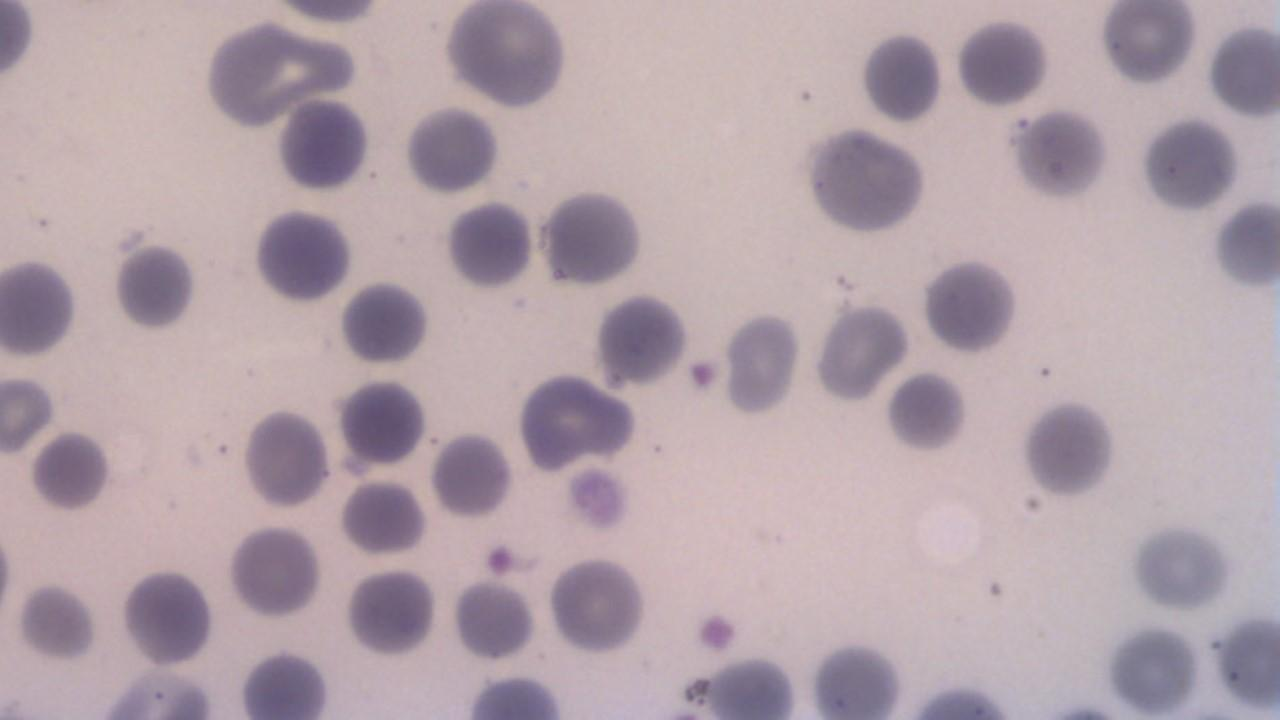Platelets: (540, 186, 652, 291), (1015, 394, 1121, 501), (1137, 110, 1241, 216), (916, 254, 1022, 358), (248, 206, 354, 307), (1010, 104, 1115, 204), (592, 290, 694, 390), (809, 301, 907, 404), (951, 14, 1053, 110), (720, 308, 803, 419), (856, 28, 947, 126), (442, 198, 536, 292), (336, 276, 431, 369), (111, 240, 199, 334), (881, 369, 974, 456), (28, 429, 118, 514), (1209, 195, 1279, 298), (563, 464, 634, 535), (688, 608, 744, 656), (1047, 694, 1121, 718), (684, 354, 724, 396)
RBC: (441, 1, 573, 110), (536, 183, 648, 291), (917, 252, 1024, 360), (1134, 111, 1244, 216), (544, 552, 650, 656), (116, 562, 218, 668), (810, 298, 910, 406), (514, 368, 618, 471), (272, 96, 375, 195), (224, 522, 326, 620), (240, 404, 332, 512), (400, 103, 502, 197), (720, 305, 803, 420), (342, 563, 438, 660), (441, 197, 536, 292), (1097, 1, 1197, 90), (338, 373, 430, 468), (338, 277, 434, 368), (2, 254, 81, 361), (448, 576, 538, 666), (428, 428, 516, 520), (1204, 17, 1278, 122), (337, 474, 428, 558), (236, 646, 334, 720), (31, 428, 112, 514), (461, 672, 572, 718), (0, 1, 38, 92)
WBC: (798, 123, 934, 239), (274, 95, 376, 196)
